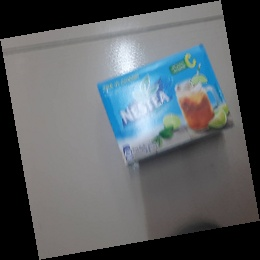Nestea: (94, 43, 236, 167)
